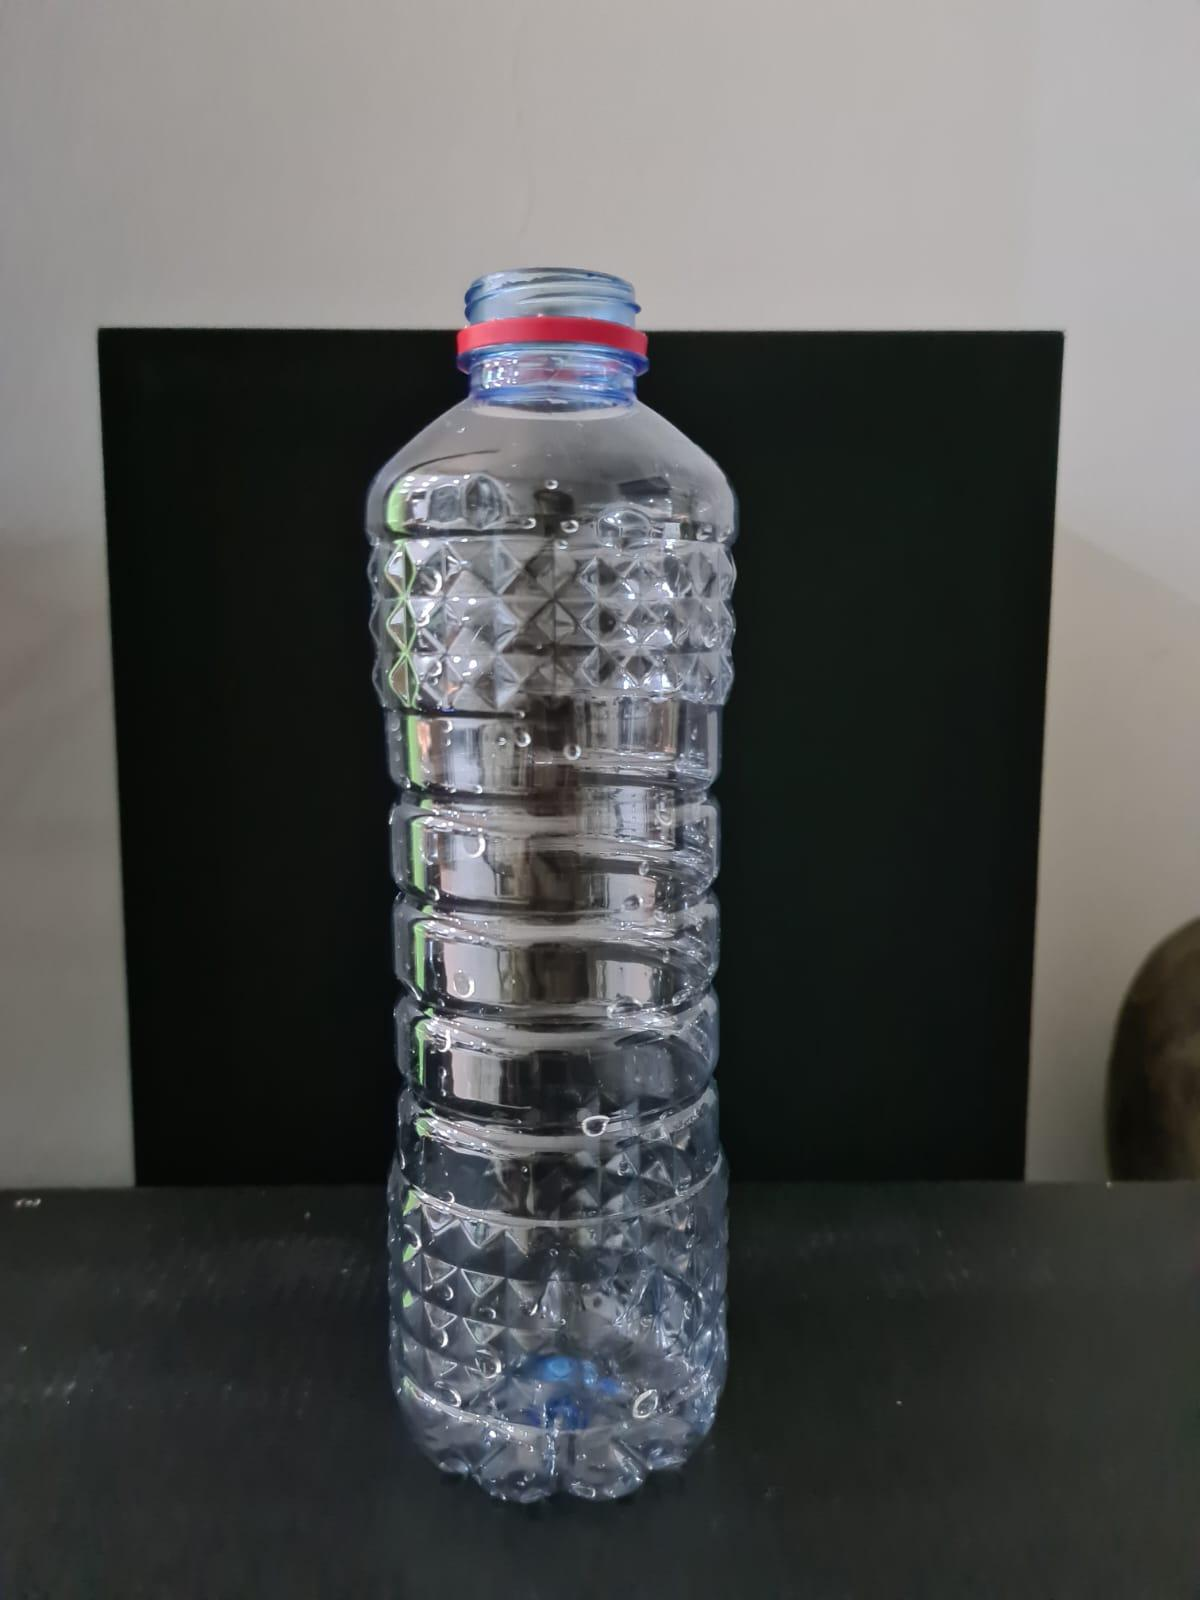bottle: (311, 234, 839, 1514)
